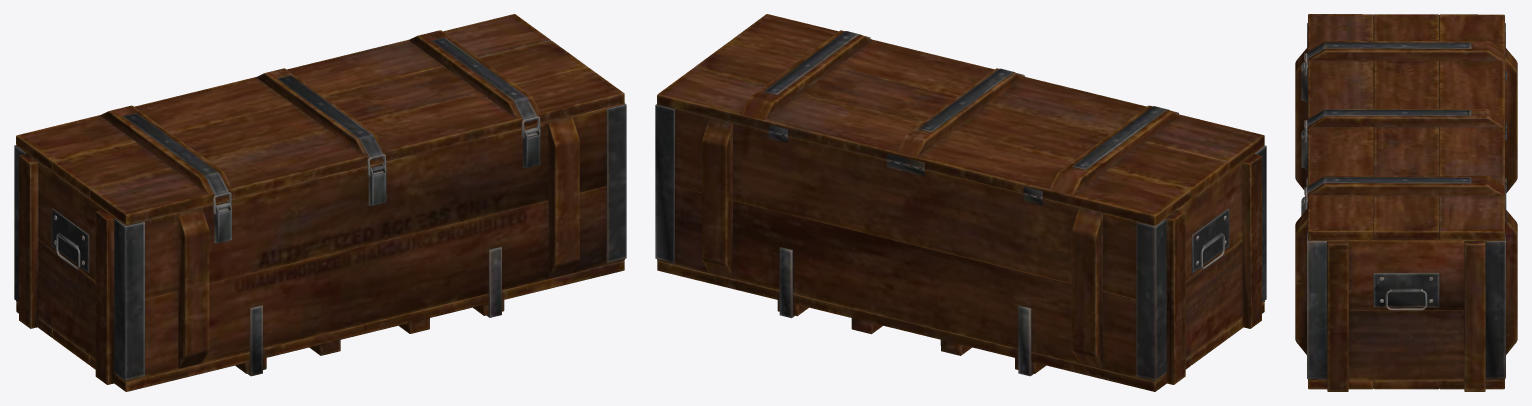
File: wooden_military_crate.glb
3 views of the same model, side by side, from view 1: azimuth 30°, elevation 25°; view 2: azimuth 150°, elevation 25°; view 3: azimuth 270°, elevation 25° (orthographic). The views are drawn at different scales.
Visible parts, largest first — view 1: wooden_military_crate, wooden_military_crate_lid; view 2: wooden_military_crate, wooden_military_crate_lid; view 3: wooden_military_crate_lid, wooden_military_crate.
Boxes of the visible parts, x1=… form: wooden_military_crate: x1=14, y1=103, x2=626, y2=391; wooden_military_crate_lid: x1=16, y1=14, x2=624, y2=224; wooden_military_crate: x1=655, y1=104, x2=1266, y2=391; wooden_military_crate_lid: x1=657, y1=14, x2=1264, y2=225; wooden_military_crate_lid: x1=1304, y1=14, x2=1506, y2=240; wooden_military_crate: x1=1295, y1=23, x2=1517, y2=391.
Bounding box in the file's own units: 1.24 × 0.4647 × 0.5198.
Materials: 1 (1 with a texture image).
